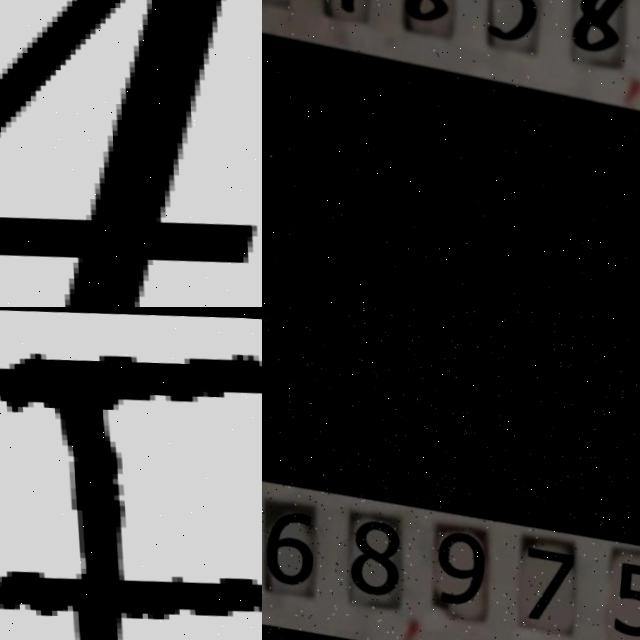5: (581, 527, 640, 640), (469, 0, 547, 49)
6: (262, 482, 333, 601)
7: (494, 516, 588, 631)
8: (323, 493, 417, 607), (554, 0, 631, 58), (387, 0, 458, 29)
9: (407, 502, 502, 618)
F: (0, 348, 262, 640)
